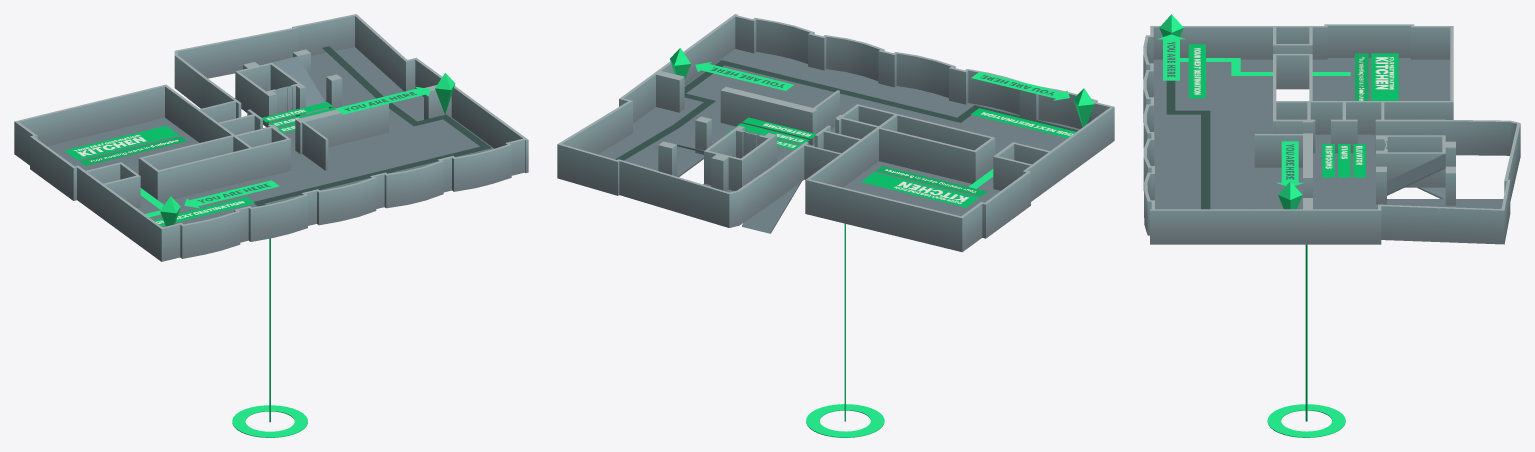
The model's file is navigate.glb.
3 renders of one model, left to right at view 1: azimuth 30°, elevation 25°; view 2: azimuth 150°, elevation 25°; view 3: azimuth 270°, elevation 25°, orthographic. The views are drawn at different scales.
Visible parts, largest first — view 1: SM_ENV_XRStudio_merged_x200_offset@35percent; view 2: SM_ENV_XRStudio_merged_x200_offset@35percent; view 3: SM_ENV_XRStudio_merged_x200_offset@35percent.
Part boxes in pixels (x1,y1,x2,y2): SM_ENV_XRStudio_merged_x200_offset@35percent: (14,14,528,437); SM_ENV_XRStudio_merged_x200_offset@35percent: (557,14,1114,437); SM_ENV_XRStudio_merged_x200_offset@35percent: (1143,14,1520,437).
Size of the model in its own units: 1.04 by 0.844 by 0.8899.
Materials: 1 (1 with a texture image).
